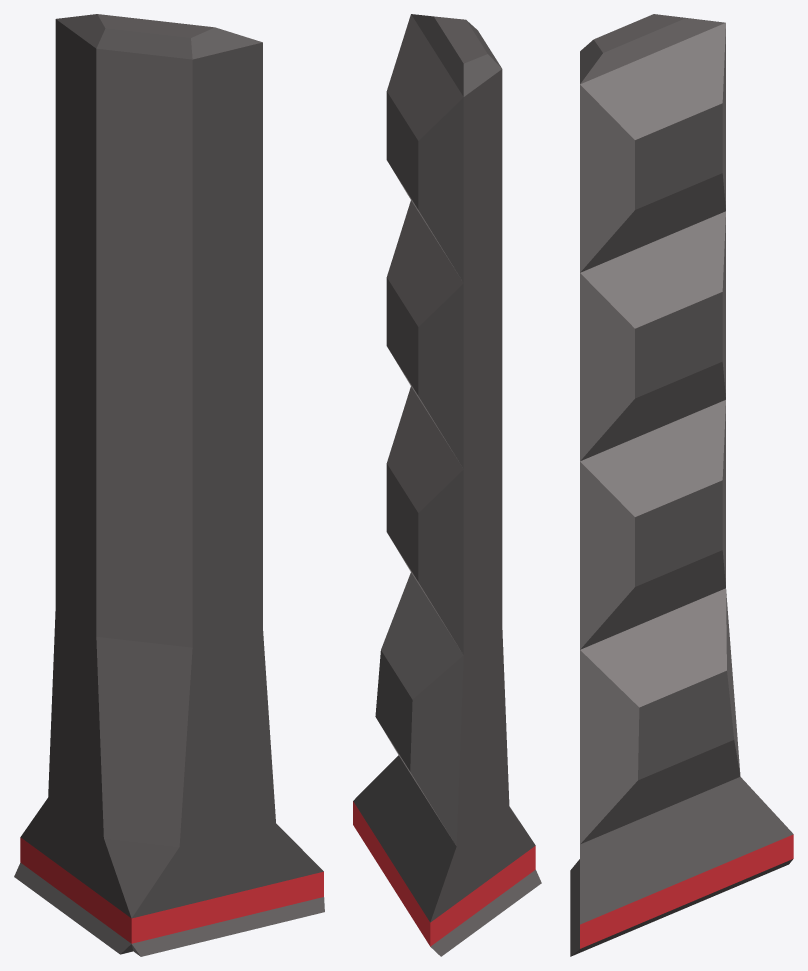
File: scifi-barrier-large-corner.fbx
3 renders of one model, left to right at view 1: azimuth 30°, elevation 25°; view 2: azimuth 150°, elevation 25°; view 3: azimuth 270°, elevation 25°, orthographic. The views are drawn at different scales.
Visible parts, largest first — view 1: scifi-barrier-large-corner; view 2: scifi-barrier-large-corner; view 3: scifi-barrier-large-corner.
Part boxes in pixels (x1=…): scifi-barrier-large-corner: x1=14, y1=14, x2=324, y2=956; scifi-barrier-large-corner: x1=353, y1=14, x2=541, y2=956; scifi-barrier-large-corner: x1=570, y1=14, x2=793, y2=956.
Bounding box in the file's own units: 0.858 × 3.64 × 0.858.
